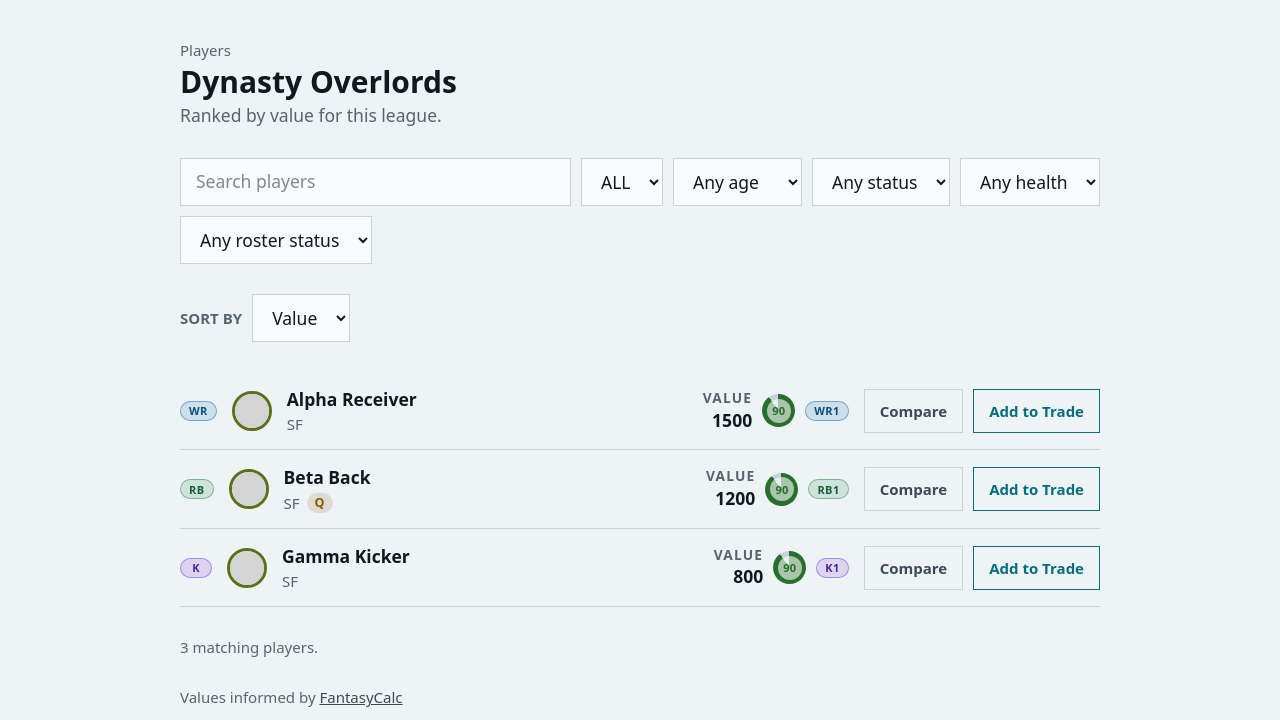
it: PlayersContent › roster-status facet › filters to rostered players using the union of every roster's players array
Select "Rostered" in the 5th dropdown: coordinates (276, 240) [180, 216, 372, 264]
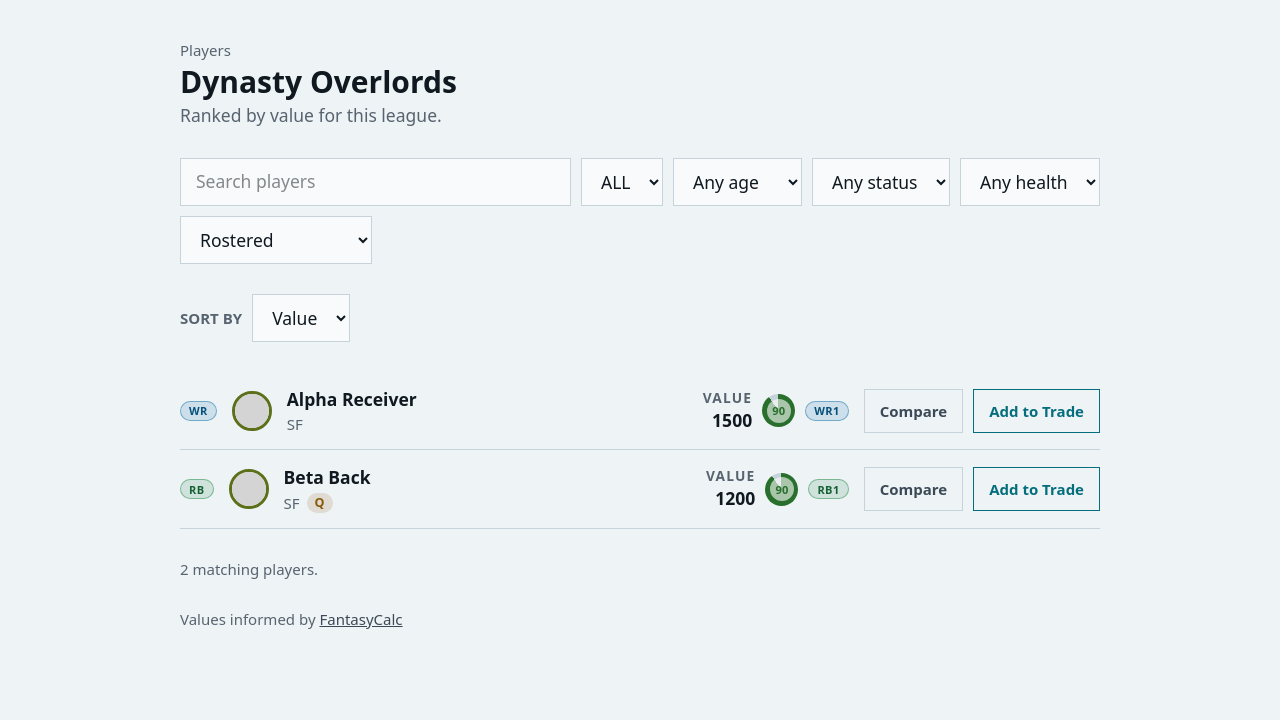
expect the text "Alpha Receiver" is shown: met, box [287, 387, 417, 412]
expect the button "Gamma Kicker" is gone: met
